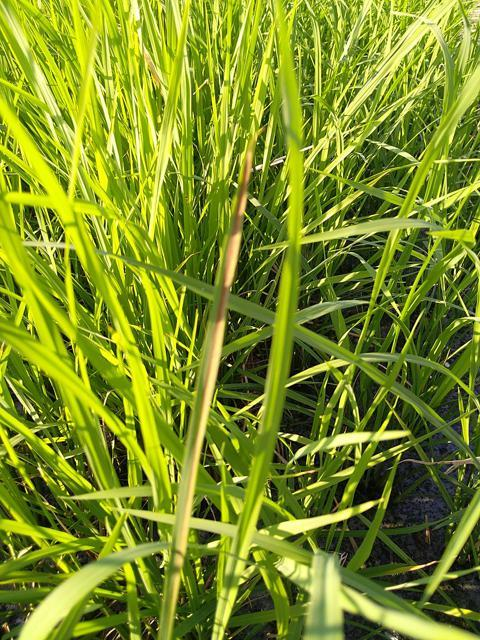Leaf Streak: (160, 129, 255, 639)
